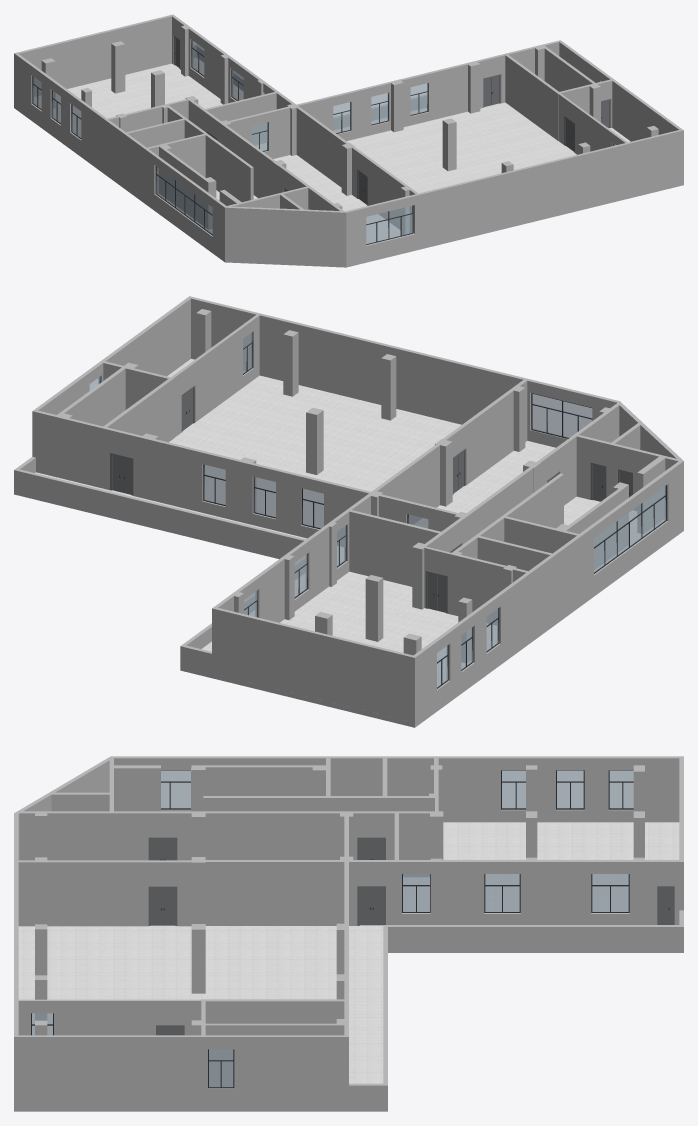
File: floorFour.FBX
The picture shows the model from 3 angles, top to bottom: view 1: azimuth 30°, elevation 25°; view 2: azimuth 150°, elevation 25°; view 3: azimuth 270°, elevation 25°; orthographic projection. The views are drawn at different scales.
Parts seen in each view (by area): view 1: Line010, Line014, Line002, Line003, Line001, Line011, Line009, Line747, Line012, Line008, Line007, Rectangle222 (+22 smaller); view 2: Line014, Line010, Line002, Line001, Line011, Line003, Line015, Line007, Line009, Line012, Line747, Line008 (+20 smaller); view 3: Line014, Line010, Line002, Line011, Line009, Line003, Line008, Line015, Line005, Line747, Line007, Rectangle003 (+27 smaller).
Boxes of the visible parts, left/top/right/bottom form: Line010: left=367, top=78, right=683, bottom=246; Line014: left=34, top=58, right=630, bottom=243; Line002: left=81, top=102, right=253, bottom=229; Line003: left=212, top=176, right=366, bottom=263; Line001: left=14, top=14, right=175, bottom=116; Line011: left=500, top=40, right=602, bottom=144; Line009: left=267, top=96, right=359, bottom=198; Line747: left=14, top=104, right=683, bottom=267; Line012: left=427, top=59, right=483, bottom=120; Line008: left=217, top=116, right=286, bottom=198; Line007: left=185, top=90, right=282, bottom=144; Rectangle222: left=156, top=167, right=212, bottom=234; Line014: left=35, top=359, right=664, bottom=686; Line010: left=98, top=296, right=531, bottom=485; Line002: left=447, top=473, right=628, bottom=659; Line001: left=212, top=605, right=436, bottom=722; Line011: left=32, top=362, right=181, bottom=490; Line003: left=557, top=395, right=683, bottom=536; Line015: left=14, top=456, right=305, bottom=673; Line007: left=344, top=506, right=448, bottom=609; Line009: left=324, top=434, right=452, bottom=546; Line012: left=133, top=433, right=204, bottom=512; Line747: left=14, top=489, right=683, bottom=727; Line008: left=428, top=457, right=546, bottom=544; Line014: left=18, top=822, right=679, bottom=1083; Line010: left=14, top=857, right=207, bottom=1106; Line002: left=191, top=756, right=500, bottom=822; Line011: left=184, top=996, right=348, bottom=1106; Line009: left=177, top=842, right=357, bottom=926; Line003: left=14, top=756, right=160, bottom=860; Line008: left=177, top=811, right=357, bottom=860; Line015: left=349, top=910, right=683, bottom=1106; Line005: left=520, top=857, right=591, bottom=924; Line747: left=14, top=947, right=683, bottom=1111; Line007: left=386, top=810, right=443, bottom=924; Rectangle003: left=54, top=999, right=155, bottom=1035.
Bounding box in the file's own units: 34770 × 4300 × 35075.
Materials: 6 (1 with a texture image).
